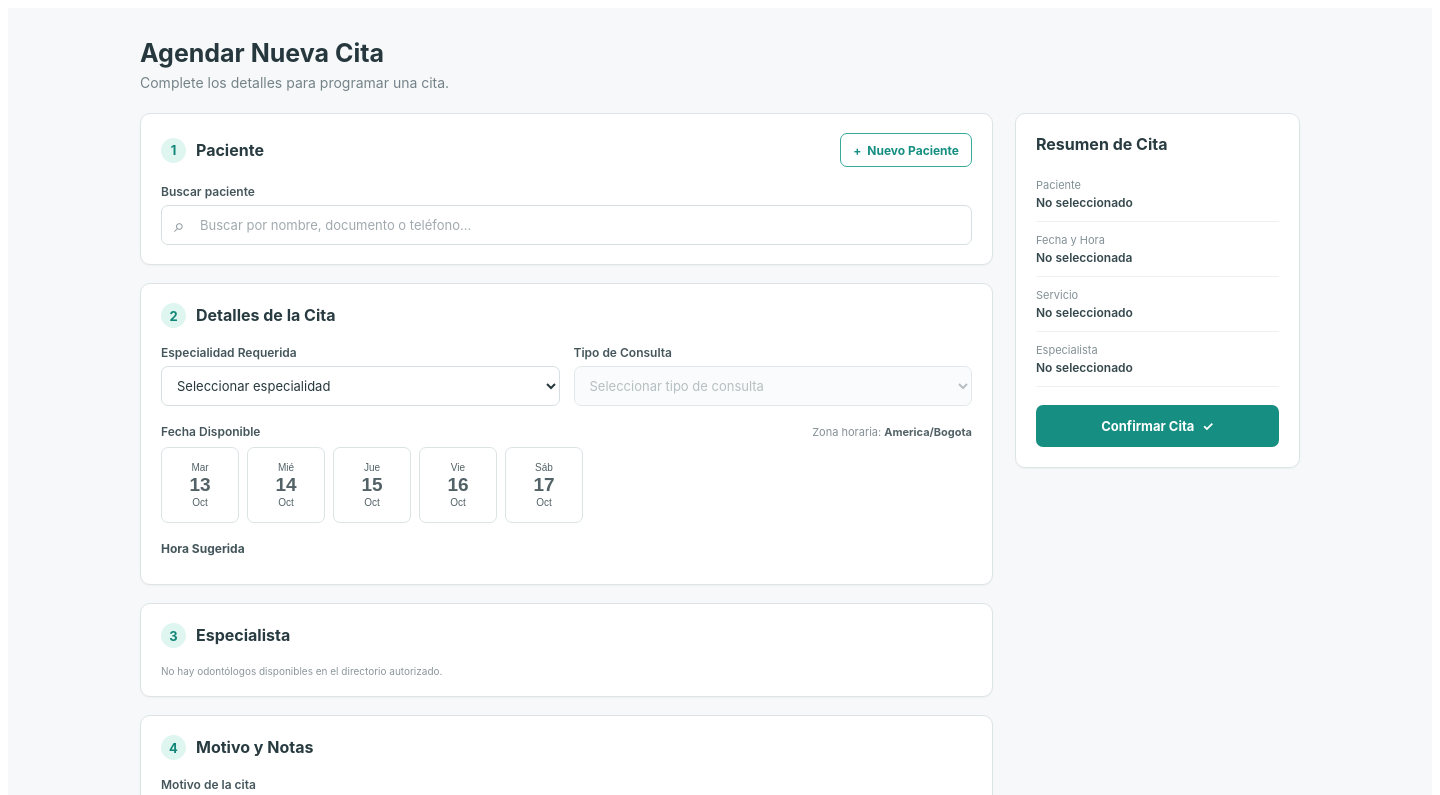
Test case: SchedulingPageComponent › shows an error and retries the patient search
This screenshot has width=1440, height=795.
Type "Ana" into the search field labelled "Buscar paciente". click: (566, 225)
box: left=161, top=205, right=972, bottom=245
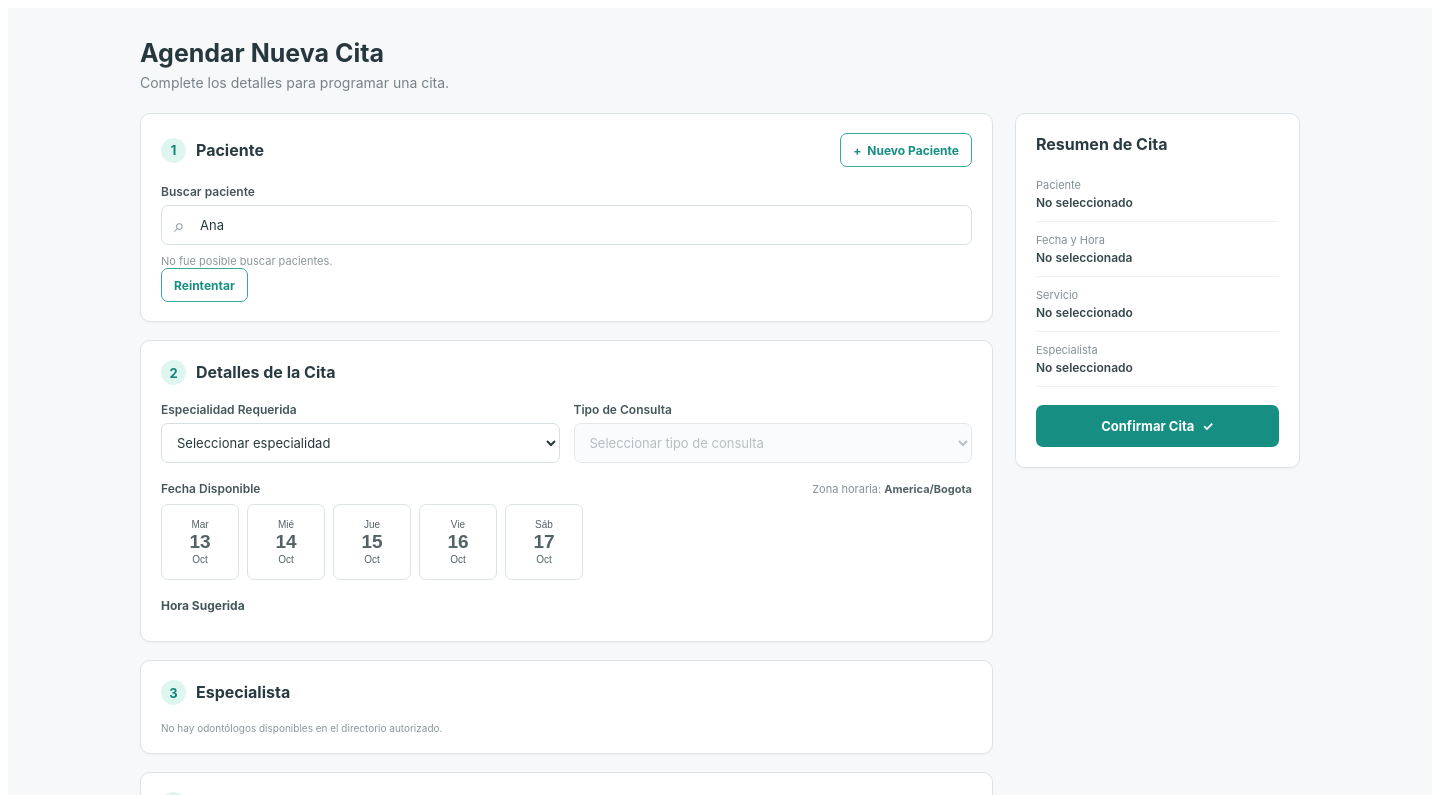
Now the element showing "No fue posible buscar pacientes. Reintentar" is shown, box left=161, top=254, right=332, bottom=302
Now the button "Reintentar" is shown
Click the button "Reintentar". click: (204, 285)
box: left=161, top=268, right=248, bottom=302
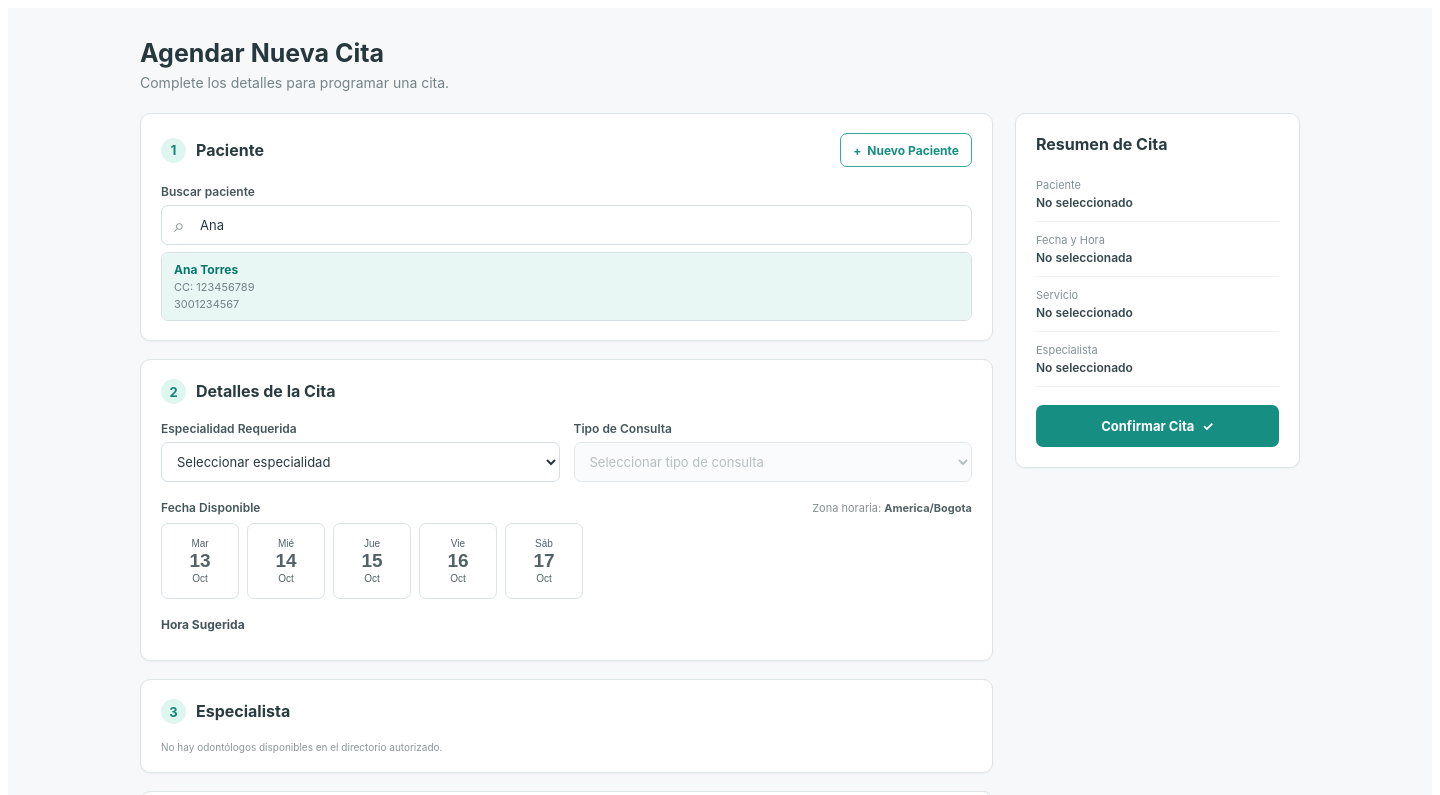
Now the option "Ana Torres CC: 123456789 3001234567" is shown, box left=162, top=253, right=971, bottom=320
